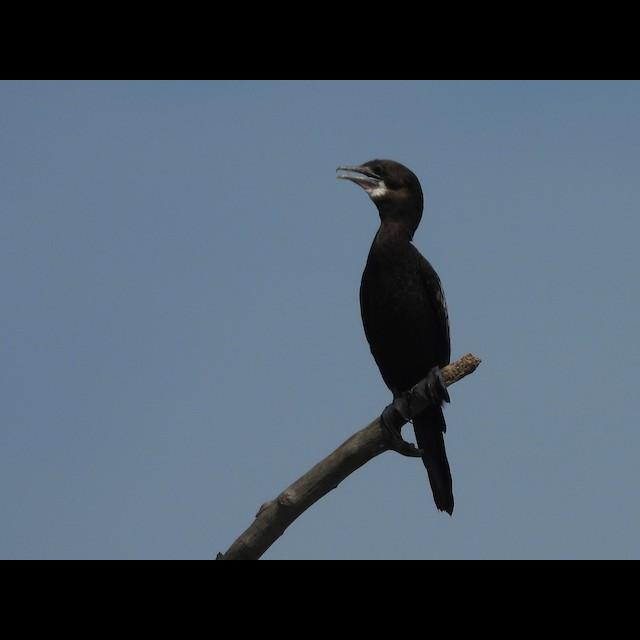cormorant: (327, 144, 463, 516)
